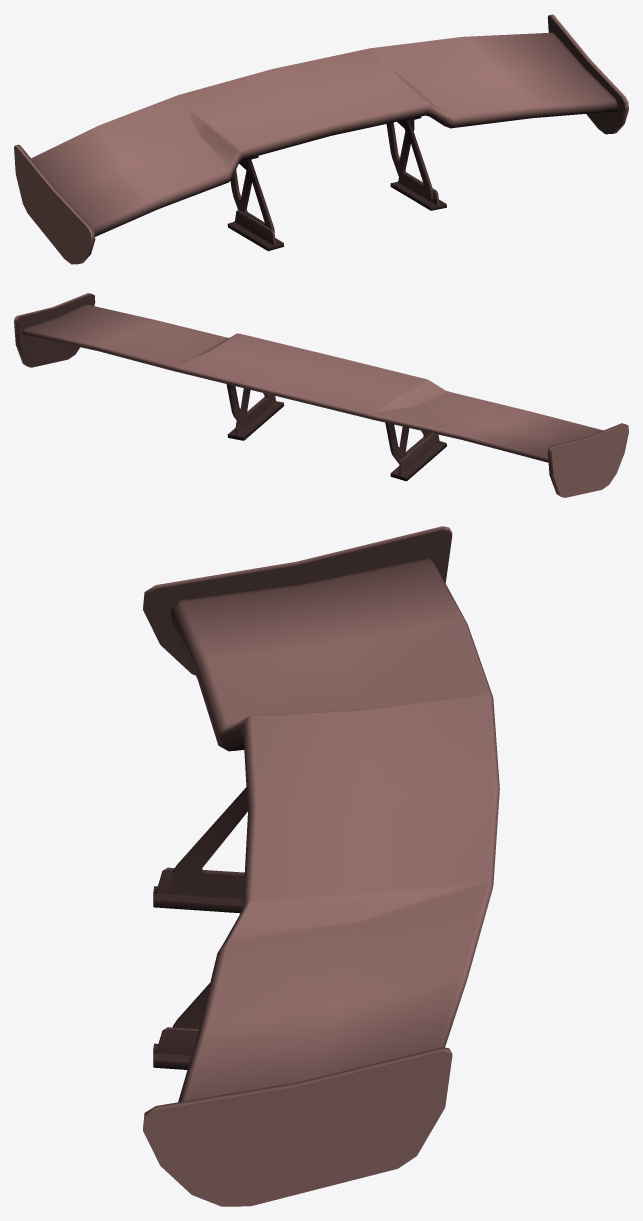
File: Viper_Spoiler_03_Trim.fbx
3 views of the same model, one above another, from view 1: azimuth 30°, elevation 25°; view 2: azimuth 150°, elevation 25°; view 3: azimuth 270°, elevation 25° (orthographic). The views are drawn at different scales.
Parts seen in each view (by area): view 1: Viper_Spoiler_03_Trim; view 2: Viper_Spoiler_03_Trim; view 3: Viper_Spoiler_03_Trim.
Part boxes in pixels (x1,y1,x2,y2): Viper_Spoiler_03_Trim: (14,14,628,264); Viper_Spoiler_03_Trim: (14,293,628,497); Viper_Spoiler_03_Trim: (143,526,499,1206).
Bounding box in the file's own units: 143 × 26.26 × 40.99.
